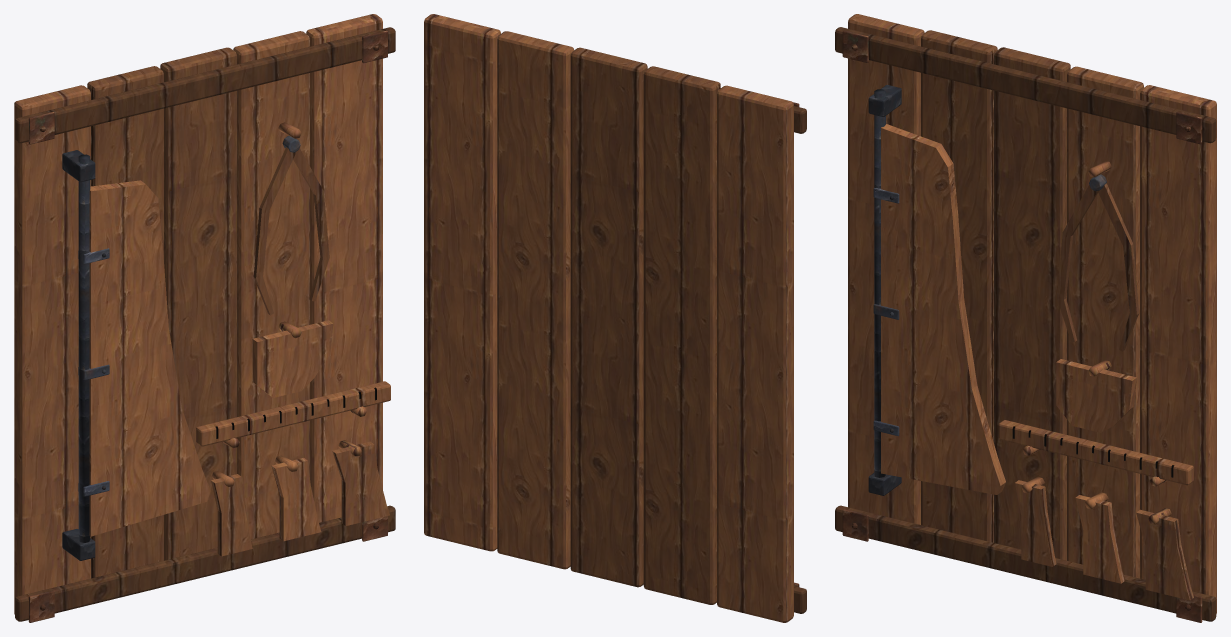
File: cf_strickle_board.glb
3 renders of one model, left to right at view 1: azimuth 30°, elevation 25°; view 2: azimuth 150°, elevation 25°; view 3: azimuth 330°, elevation 25°, orthographic.
Parts seen in each view (by area): view 1: model; view 2: model; view 3: model.
Boxes of the visible parts, bbox=[...] form: model: bbox=[14, 14, 395, 622]; model: bbox=[424, 14, 806, 622]; model: bbox=[835, 14, 1216, 622].
Size of the model in its own units: 1.19 by 1.56 by 0.1557.
9 materials, 8 textured.
